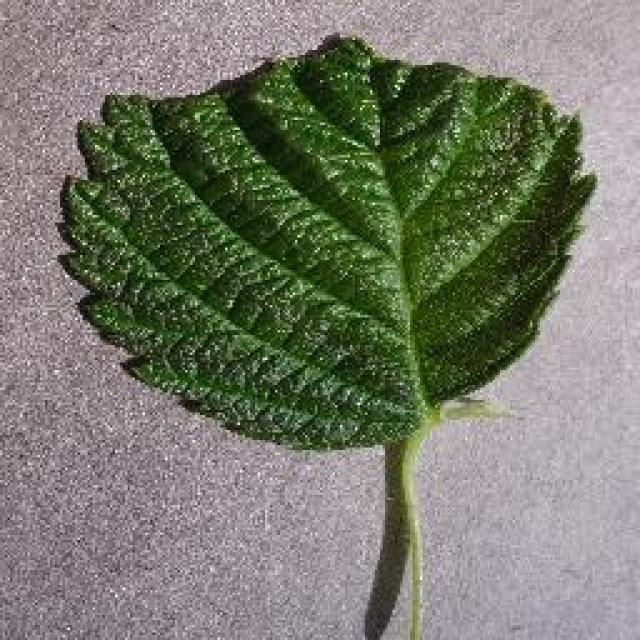Ras_healthy: (82, 60, 575, 432)
